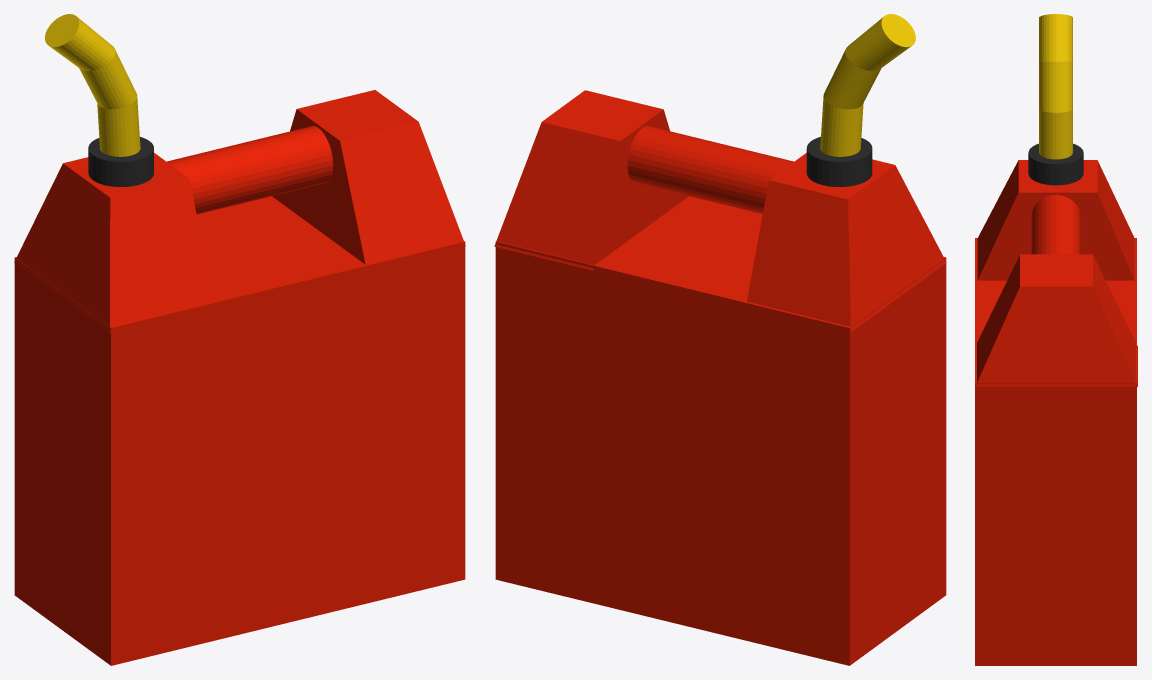
The model's file is low_poly_gas_canister.glb.
3 views of the same model, side by side, from view 1: azimuth 30°, elevation 25°; view 2: azimuth 150°, elevation 25°; view 3: azimuth 270°, elevation 25° (orthographic). The views are drawn at different scales.
Parts seen in each view (by area): view 1: Cube_0, Cube.002_6, Cube.001_5, Cylinder.001_4, Cylinder_3, Cylinder.002_7; view 2: Cube_0, Cube.002_6, Cube.001_5, Cylinder.001_4, Cylinder_3, Cylinder.002_7; view 3: Cube_0, Cube.001_5, Cube.002_6, Cylinder_3, Cylinder.001_4, Cylinder.002_7.
Boxes of the visible parts, x1,y1,x2,y2 form: Cube_0: [14, 196, 465, 665]; Cube.002_6: [14, 153, 213, 332]; Cube.001_5: [272, 90, 465, 264]; Cylinder.001_4: [167, 126, 333, 214]; Cylinder_3: [45, 14, 140, 156]; Cylinder.002_7: [88, 137, 153, 186]; Cube_0: [495, 196, 946, 665]; Cube.002_6: [747, 153, 946, 332]; Cube.001_5: [494, 90, 688, 270]; Cylinder.001_4: [627, 126, 793, 213]; Cylinder_3: [820, 14, 915, 156]; Cylinder.002_7: [806, 136, 872, 186]; Cube_0: [975, 238, 1136, 665]; Cube.001_5: [975, 254, 1137, 386]; Cube.002_6: [977, 160, 1134, 280]; Cylinder_3: [1039, 14, 1072, 159]; Cylinder.001_4: [1031, 195, 1080, 254]; Cylinder.002_7: [1028, 143, 1083, 185].
Bounding box in the file's own units: 1.04 × 1.65 × 0.4752.
